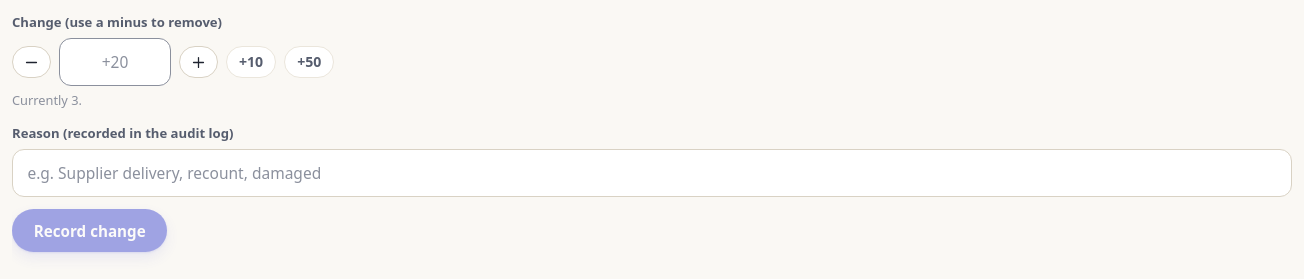
Test: AdjustStockForm › previews the result and blocks a change that would go below zero (AC-INVENTORY-3)
Type "recount" into the field labelled "Reason (recorded in the audit log)" at (652, 173), box [12,149,1292,197]
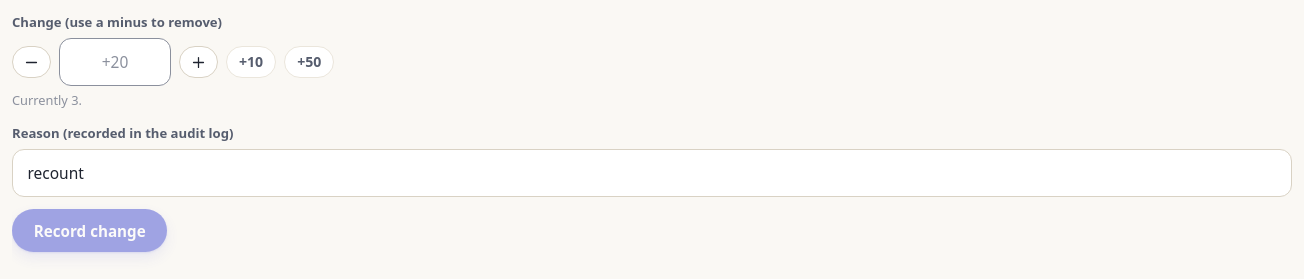
Type "-5" into the field labelled "Change (use a minus to remove)" at (115, 62), box [59,38,171,86]
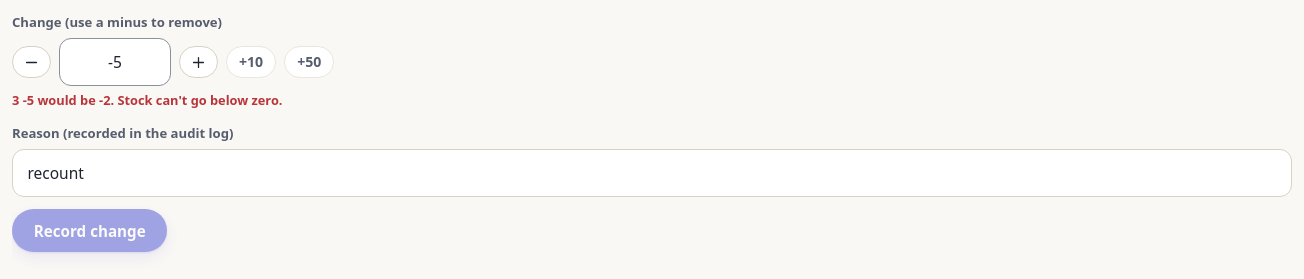
Expected: the button "Record change" is disabled, [12,209,168,252]
Expected: the text "3 -5 would be -2. Stock can't go below zero." is shown, [12,91,282,109]
Replace the text in the field labelled "Change (use a minus to remove)" with "-3" at (115, 62), box [59,38,171,86]
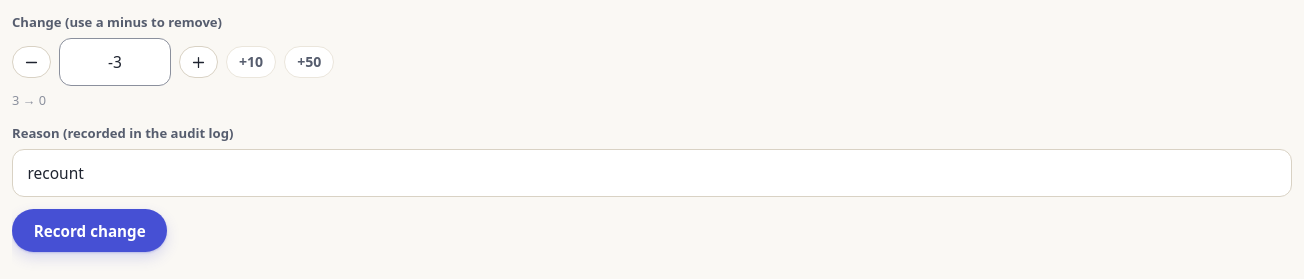
Expected: the text "3 → 0" is shown, [12,91,46,109]
Expected: the button "Record change" is enabled, [12,209,168,252]
